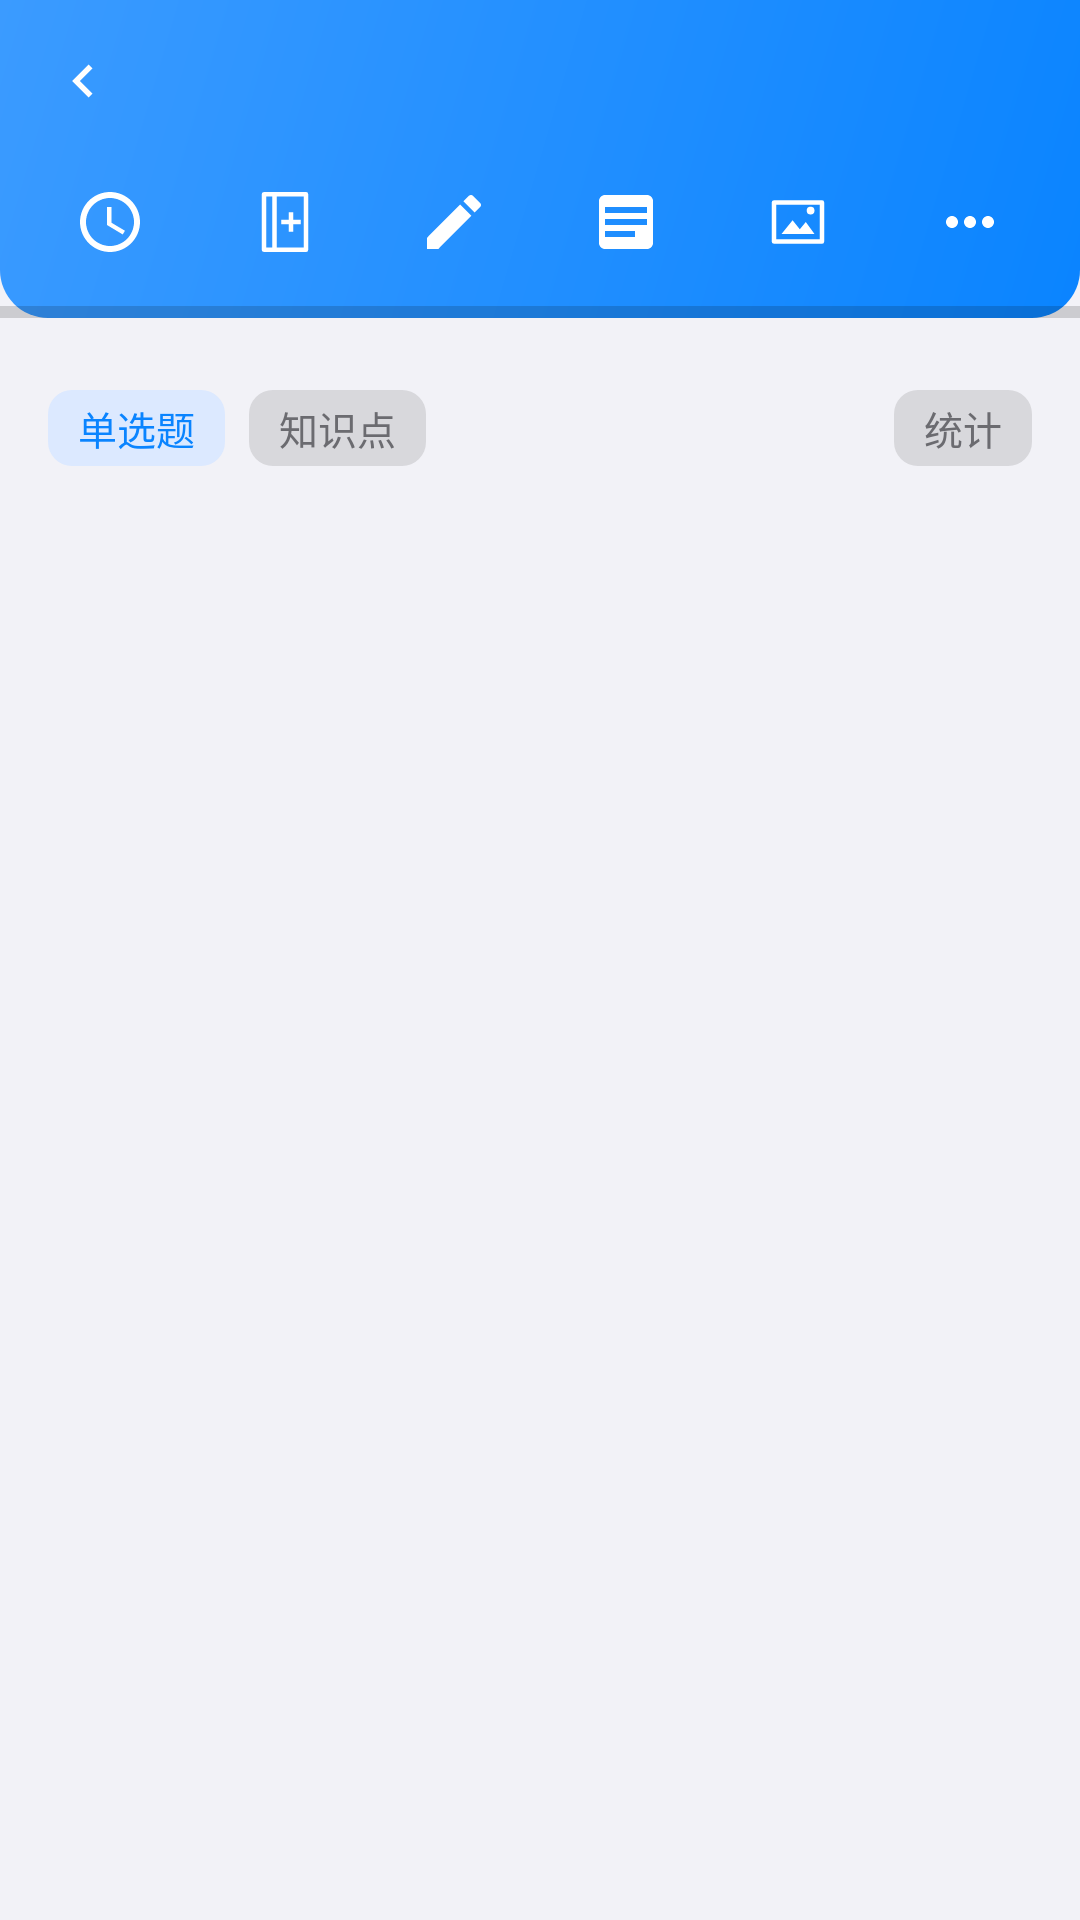

Named icons in this screenshot (1080 x 1920) and their bounding boxes, [x1, y1, x2, y2]:
tool card: [771, 200, 825, 244]
tool draft: [427, 195, 481, 249]
tool more: [946, 216, 994, 228]
tool sheet: [599, 195, 653, 249]
tool time: [80, 192, 140, 252]
返回: [72, 64, 93, 98]
